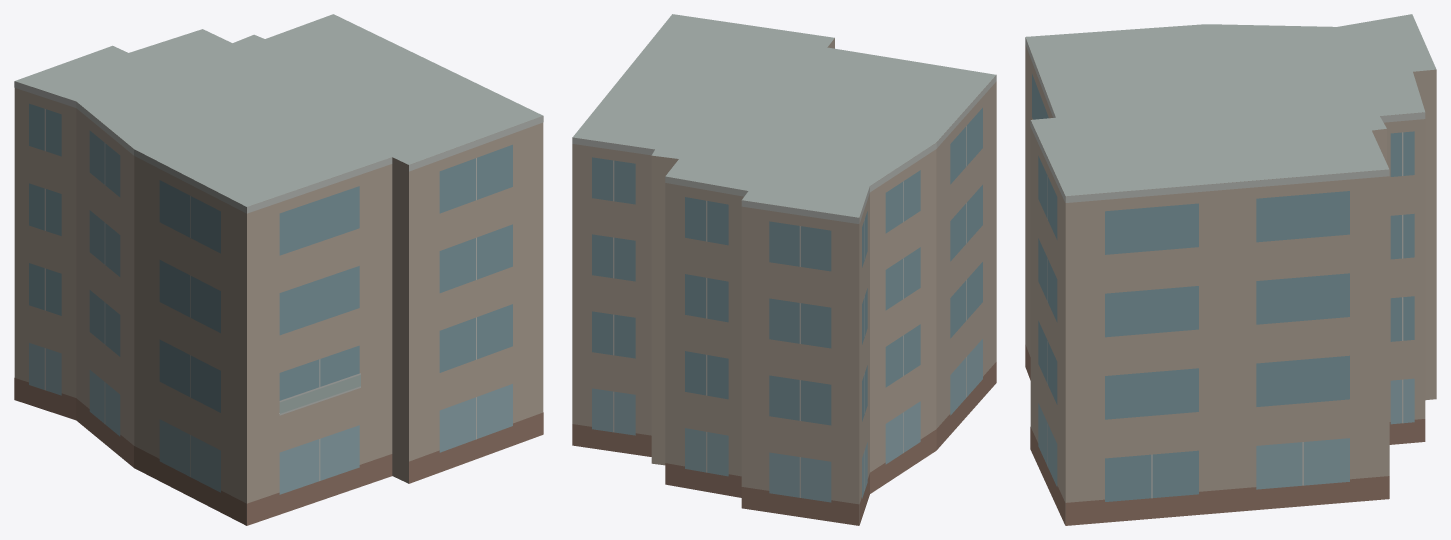
Rendered from survey-upis-33040946.glb.
3 renders of one model, left to right at view 1: azimuth 30°, elevation 25°; view 2: azimuth 150°, elevation 25°; view 3: azimuth 270°, elevation 25°, orthographic. The views are drawn at different scales.
Visible parts, largest first — view 1: survey-upis-33040946.tmp; view 2: survey-upis-33040946.tmp; view 3: survey-upis-33040946.tmp.
Part boxes in pixels (x1=…): survey-upis-33040946.tmp: x1=14, y1=14, x2=543, y2=525; survey-upis-33040946.tmp: x1=572, y1=14, x2=996, y2=525; survey-upis-33040946.tmp: x1=1025, y1=14, x2=1436, y2=525.
Bounding box in the file's own units: 13.88 × 11.7 × 13.24.
